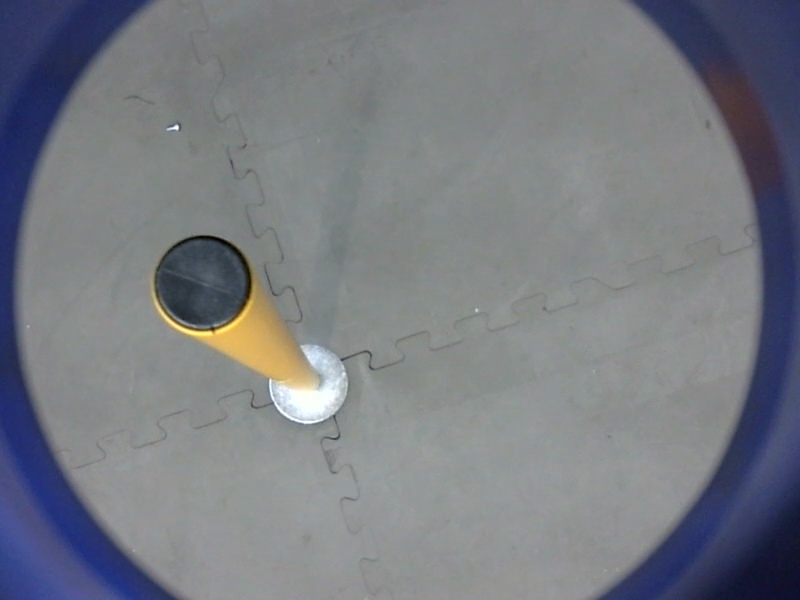tip: (146, 230, 259, 342)
